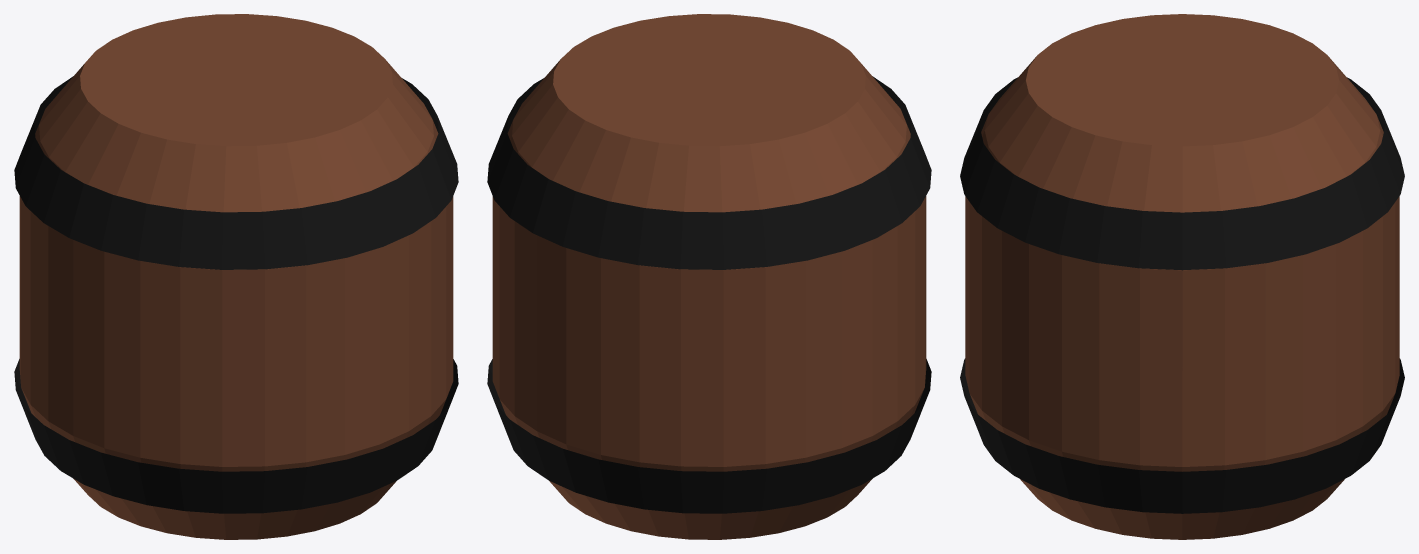
File: (Multi)Barrel2WIP.fbx
3 views of the same model, side by side, from view 1: azimuth 30°, elevation 25°; view 2: azimuth 150°, elevation 25°; view 3: azimuth 270°, elevation 25° (orthographic).
Visible parts, largest first — view 1: Barrel; view 2: Barrel; view 3: Barrel.
Boxes of the visible parts, x1,y1,x2,y2 form: Barrel: [14, 14, 458, 539]; Barrel: [487, 14, 931, 539]; Barrel: [960, 14, 1404, 539].
Size of the model in its own units: 157 by 154 by 157.
